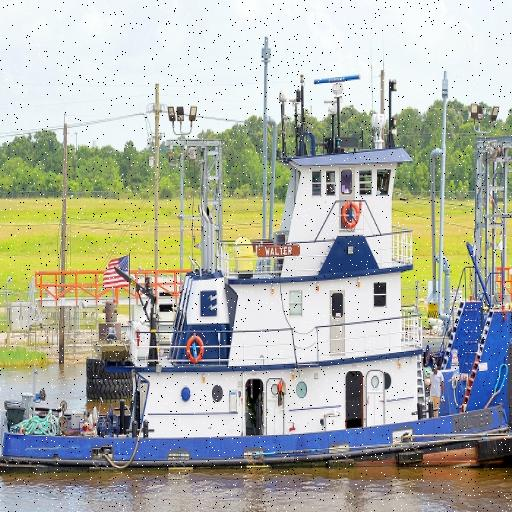tugboat: (1, 71, 512, 495)
